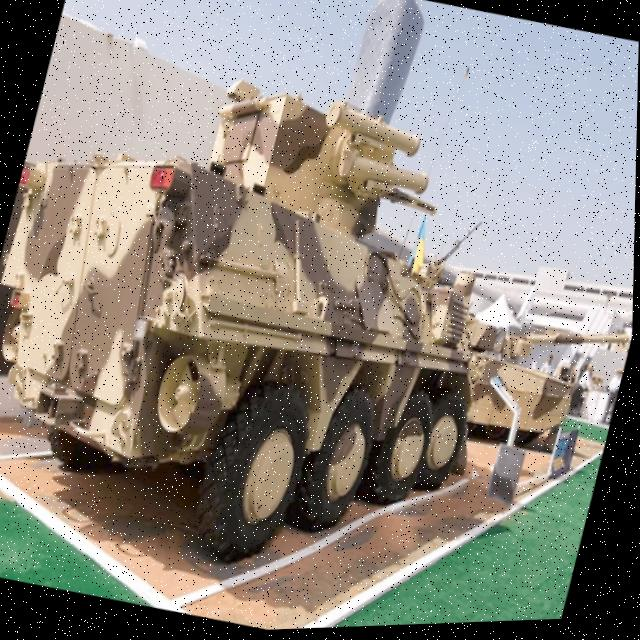MIL_APC: (0, 0, 590, 606)
